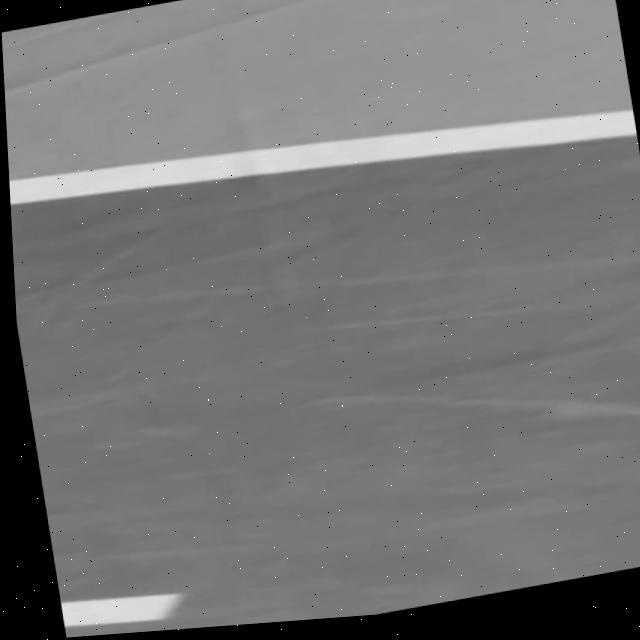center: (60, 594, 180, 628)
right: (9, 110, 637, 204)
